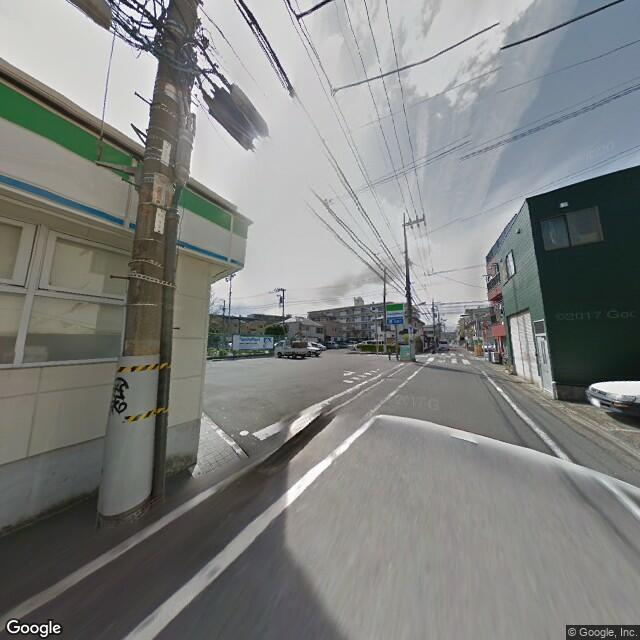family_mart: (2, 79, 246, 276), (385, 301, 406, 327)
